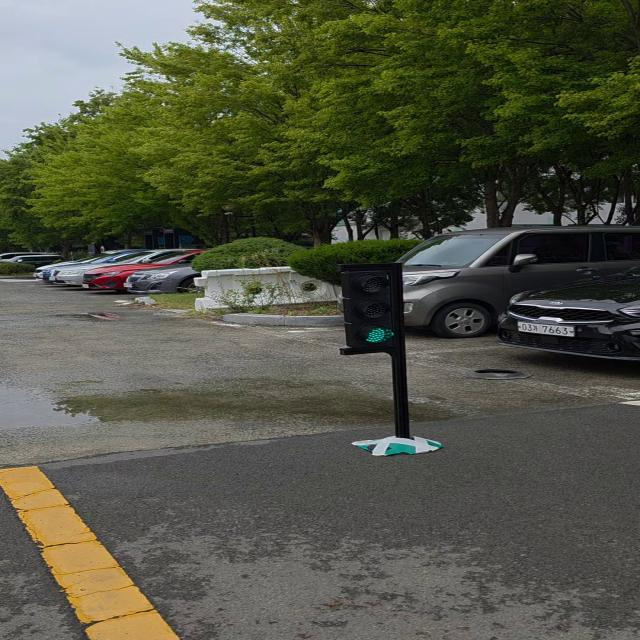green: (342, 262, 412, 354)
